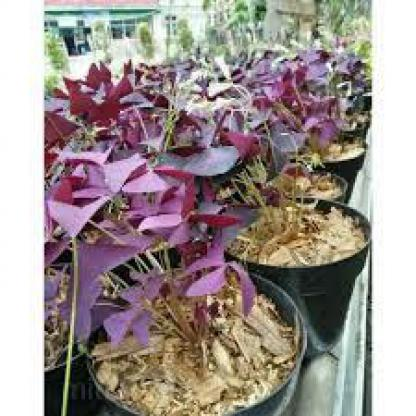Kupu-Kupu: (32, 190, 101, 338), (190, 239, 262, 308), (90, 157, 154, 207), (241, 118, 295, 168), (118, 275, 158, 339)
